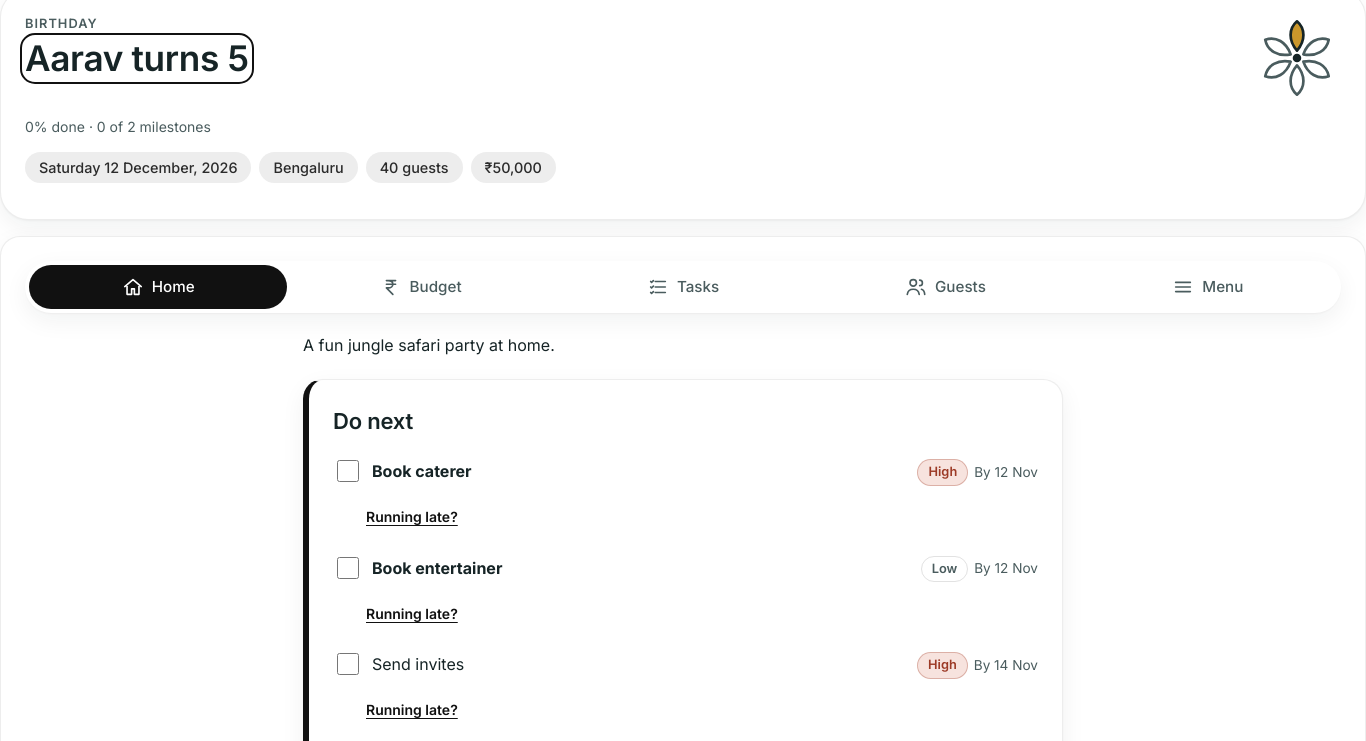
Test: Ideas section › builds on the host's own idea and asks for something to start from
The image size is (1366, 741).
Click the button "Menu": (1208, 287) [1079,265,1337,309]
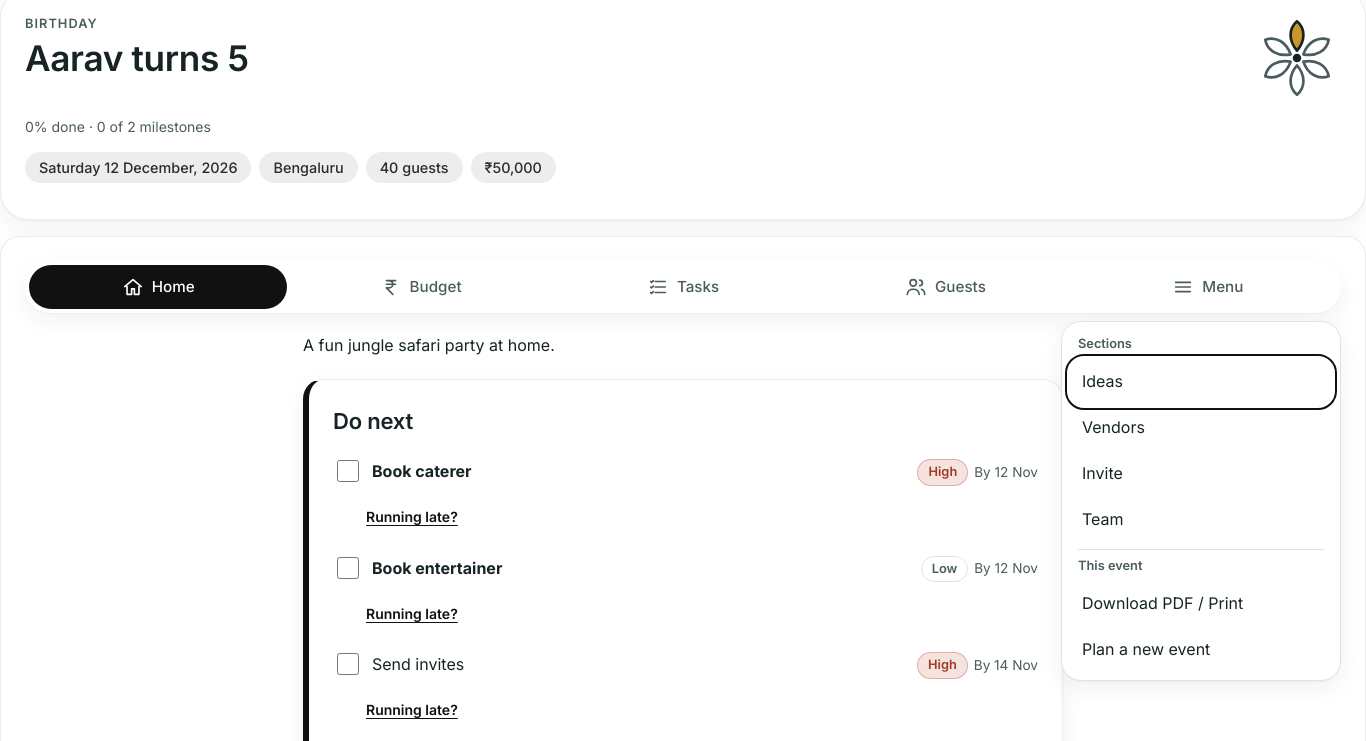
Click the button "Ideas": (1103, 381) [1070,359,1332,405]
(page scrolled)
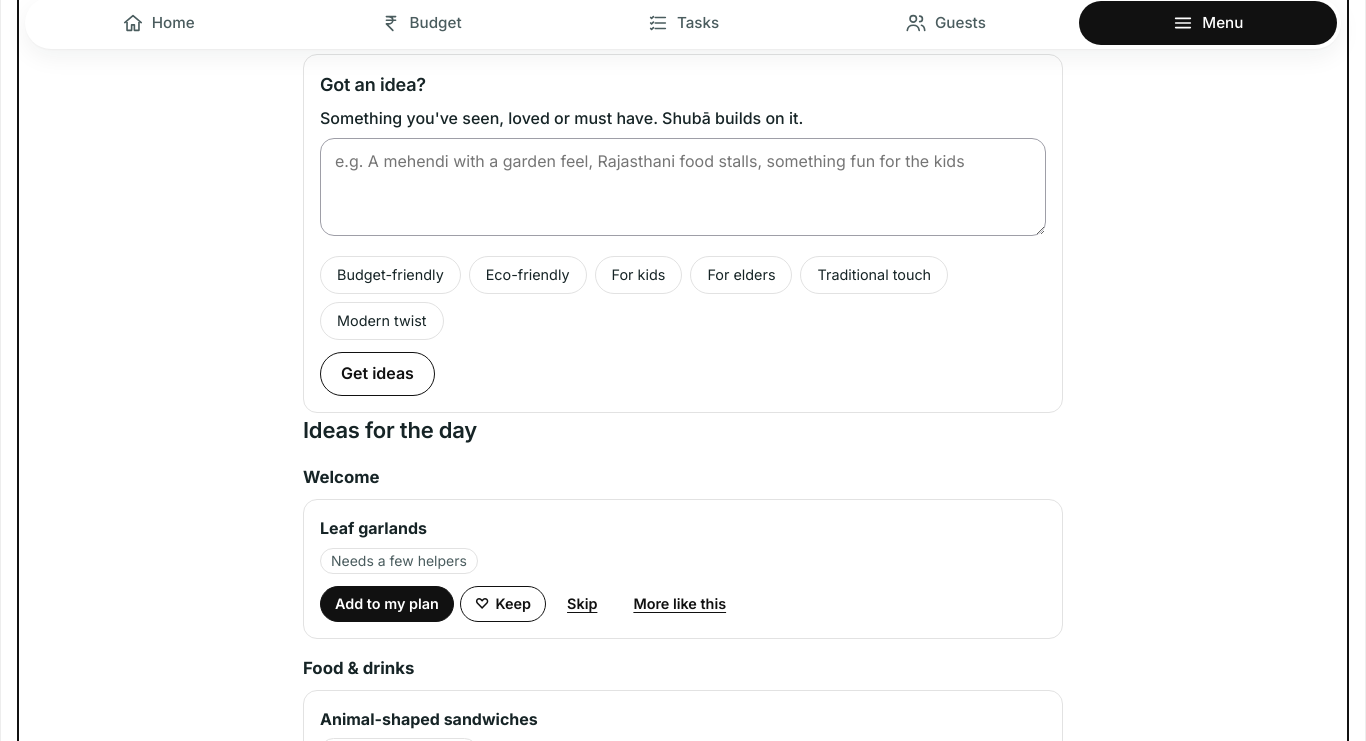
Click the button "Get ideas": (377, 374) [320,352,435,396]
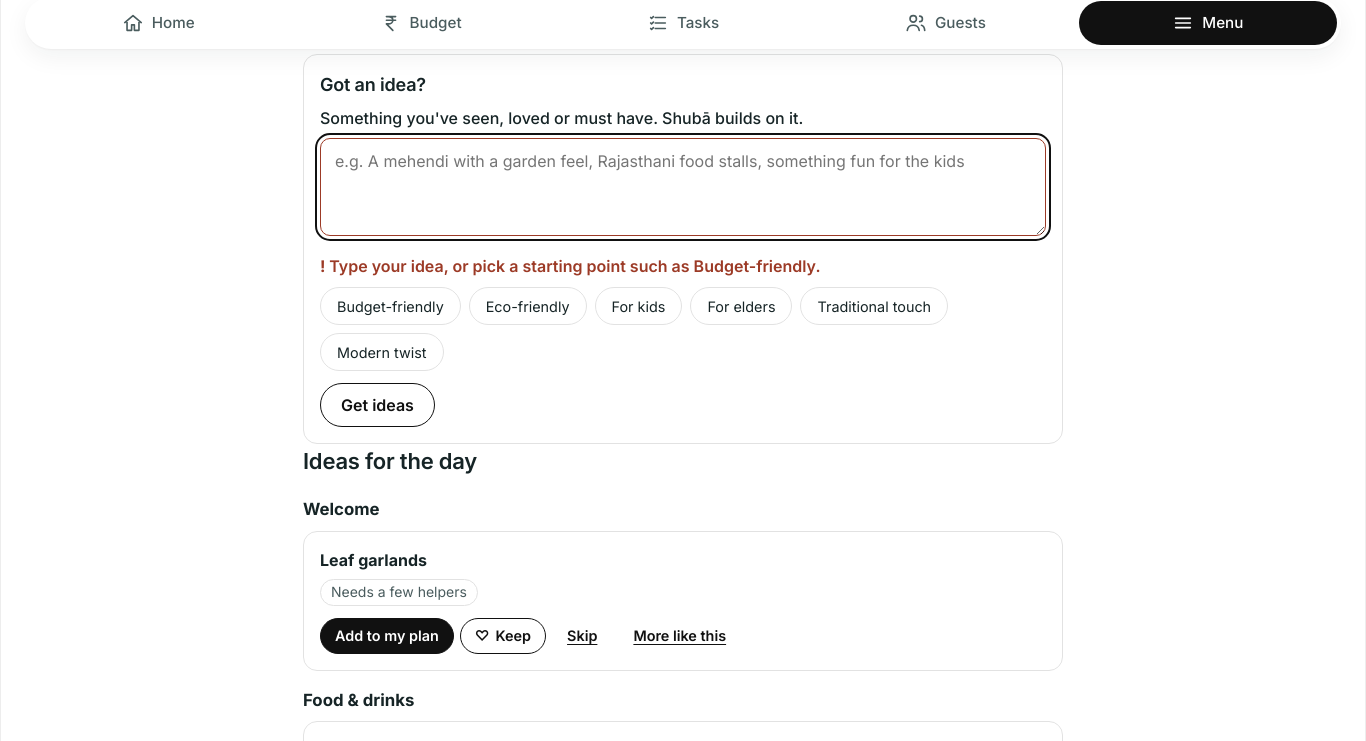
Check: the message shows "Type your idea, or pick a starting point", box [329,256,820,276]
In the text box labelled "Something you've seen": (683, 187) [320,138,1046,236], type "A mini zoo"
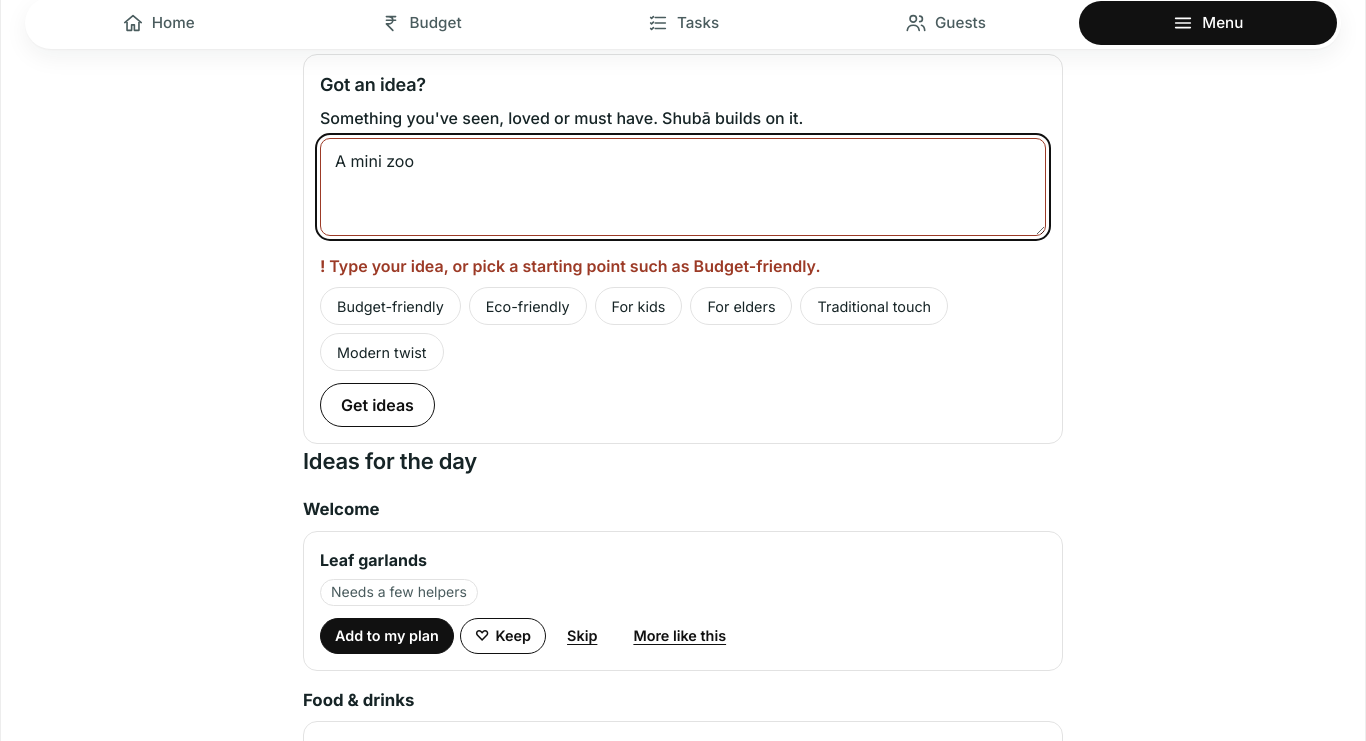
Click the button "Eco-friendly": (528, 306) [469,288,586,326]
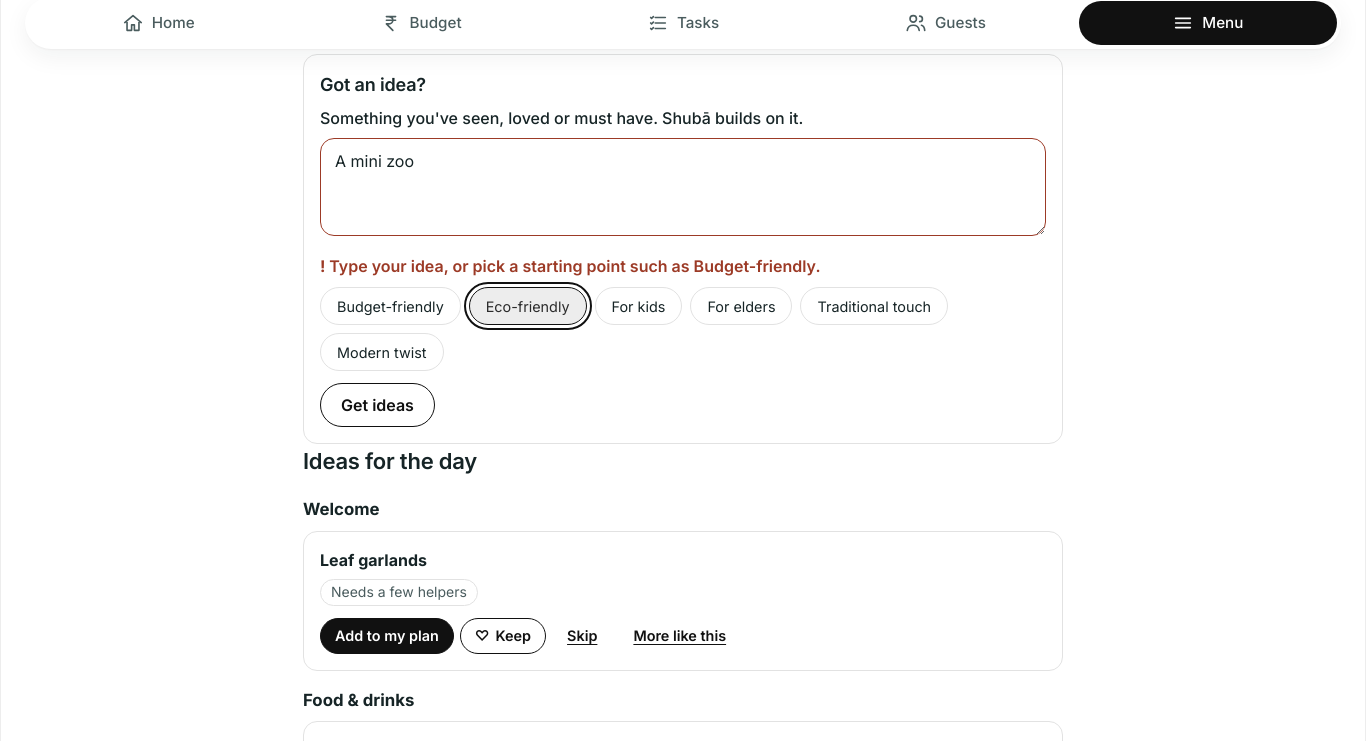
Check: the button "Eco-friendly" is pressed, box [469,288,586,326]
Click the button "Get ideas": (377, 406) [320,384,435,428]
(page scrolled)
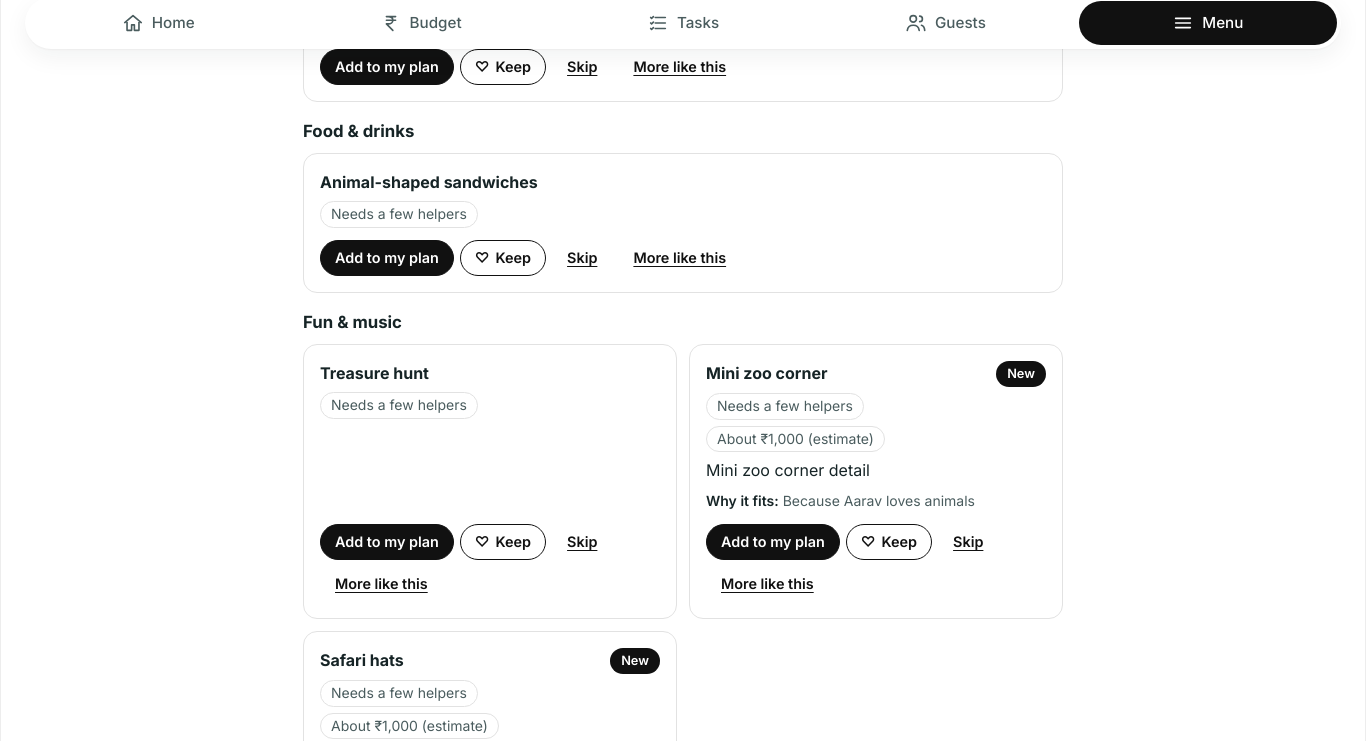
Check: the heading "Treasure hunt" is shown, box [320,361,429,386]
Check: the heading "Mini zoo corner" is shown, box [706,361,828,386]
